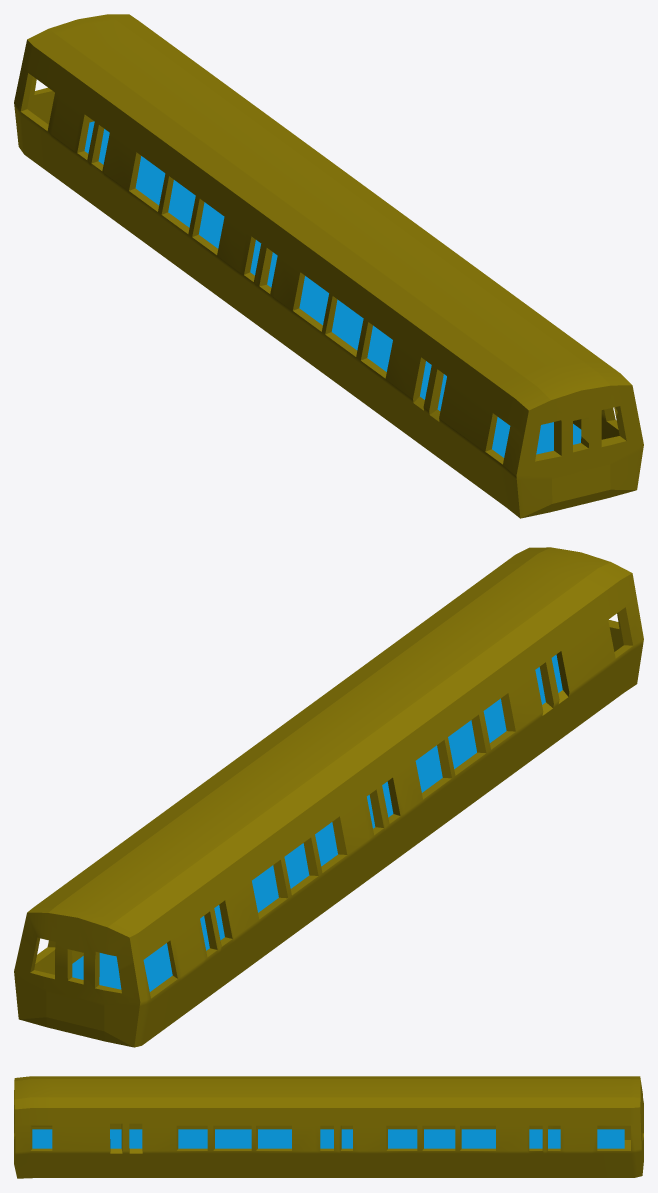
Rendered from TrainBody.fbx.
The picture shows the model from 3 angles, top to bottom: view 1: azimuth 30°, elevation 25°; view 2: azimuth 150°, elevation 25°; view 3: azimuth 270°, elevation 25°; orthographic projection. The views are drawn at different scales.
Parts seen in each view (by area): view 1: MetroTrain:metroCar1, floor; view 2: MetroTrain:metroCar1, floor; view 3: MetroTrain:metroCar1, floor.
Boxes of the visible parts, x1,y1,x2,y2 form: MetroTrain:metroCar1: (14, 14, 643, 518); floor: (84, 121, 581, 457); MetroTrain:metroCar1: (14, 547, 643, 1047); floor: (72, 654, 562, 991); MetroTrain:metroCar1: (14, 1076, 643, 1178); floor: (32, 1129, 624, 1148).
Size of the model in its own units: 3.72 by 3.26 by 25.01.
